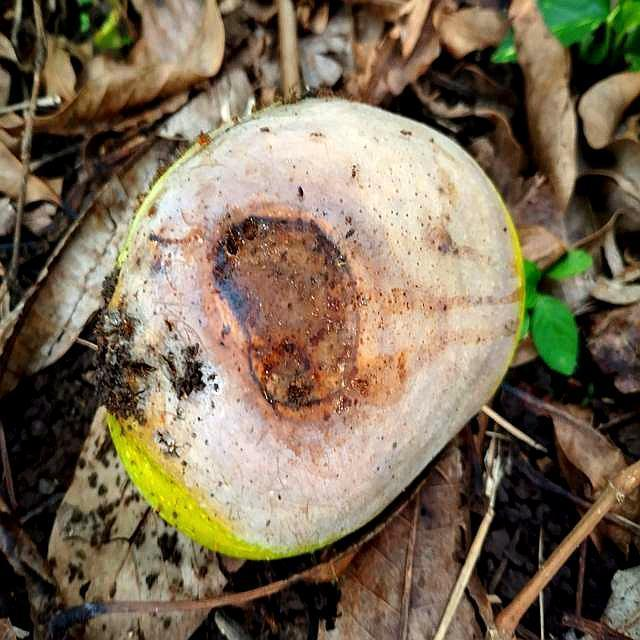Biodegradable: (109, 95, 527, 561)
